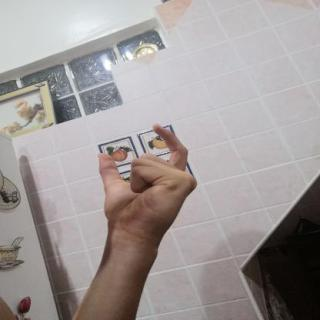NOON: (86, 117, 210, 244)
